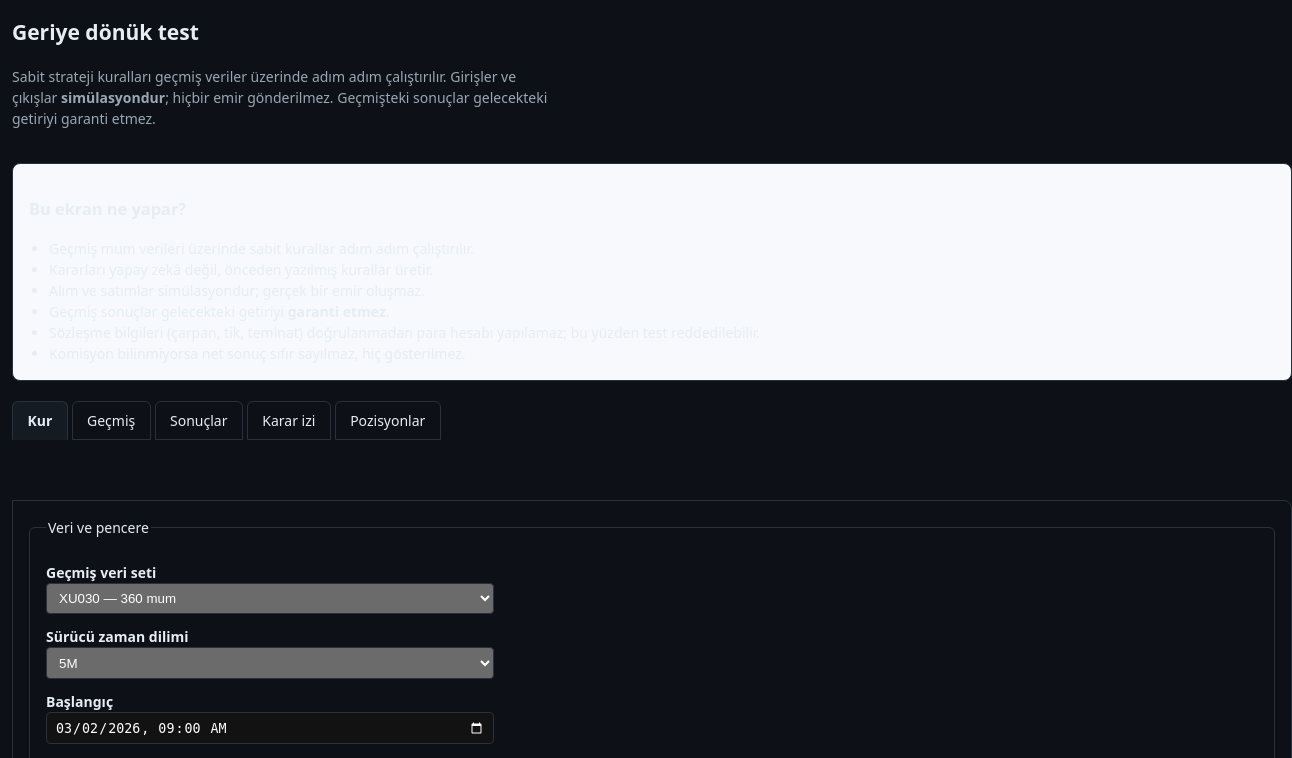
it: run status presentation › never presents a pending run as a result
Expected: the heading "Geriye dönük test" is shown, [12, 18, 199, 46]
Click the tab "Geçmiş". click: click(111, 420)
box: [72, 401, 151, 440]
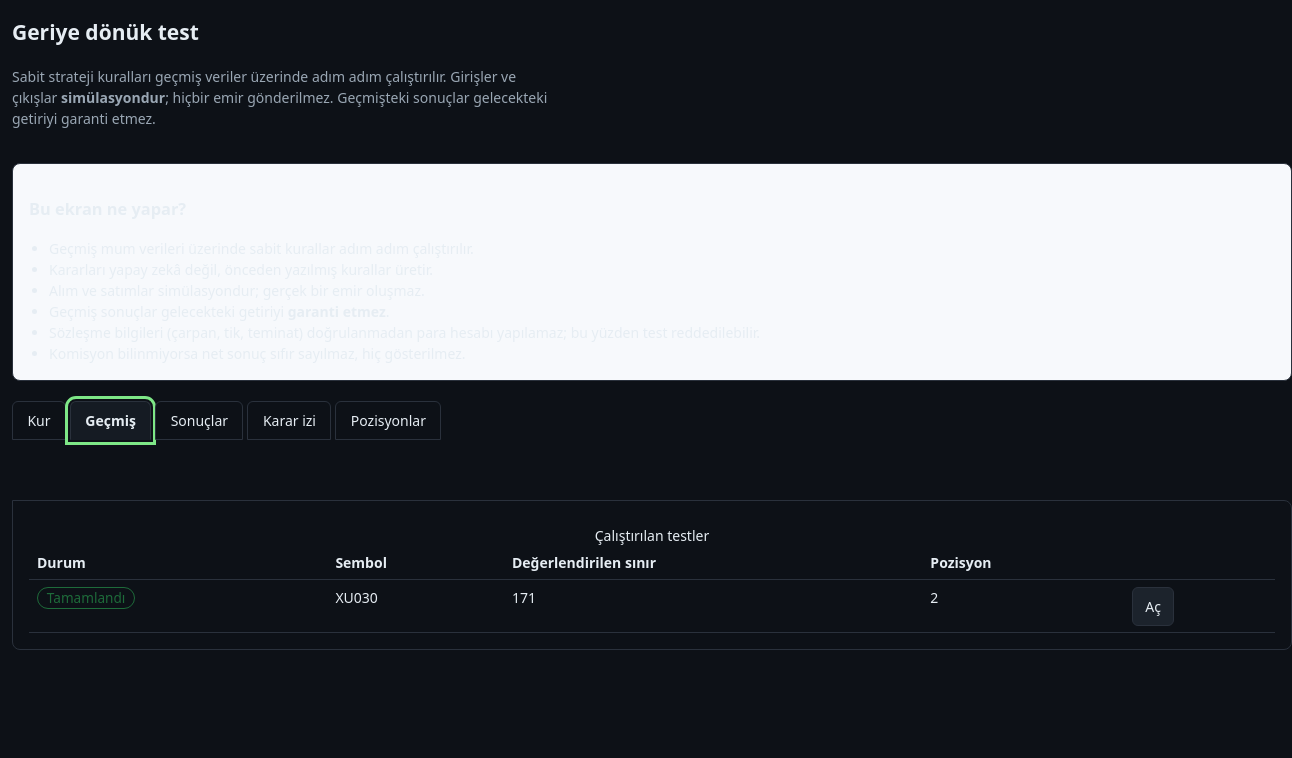
Click the button "Aç". click: click(1153, 606)
box: [1132, 587, 1174, 626]
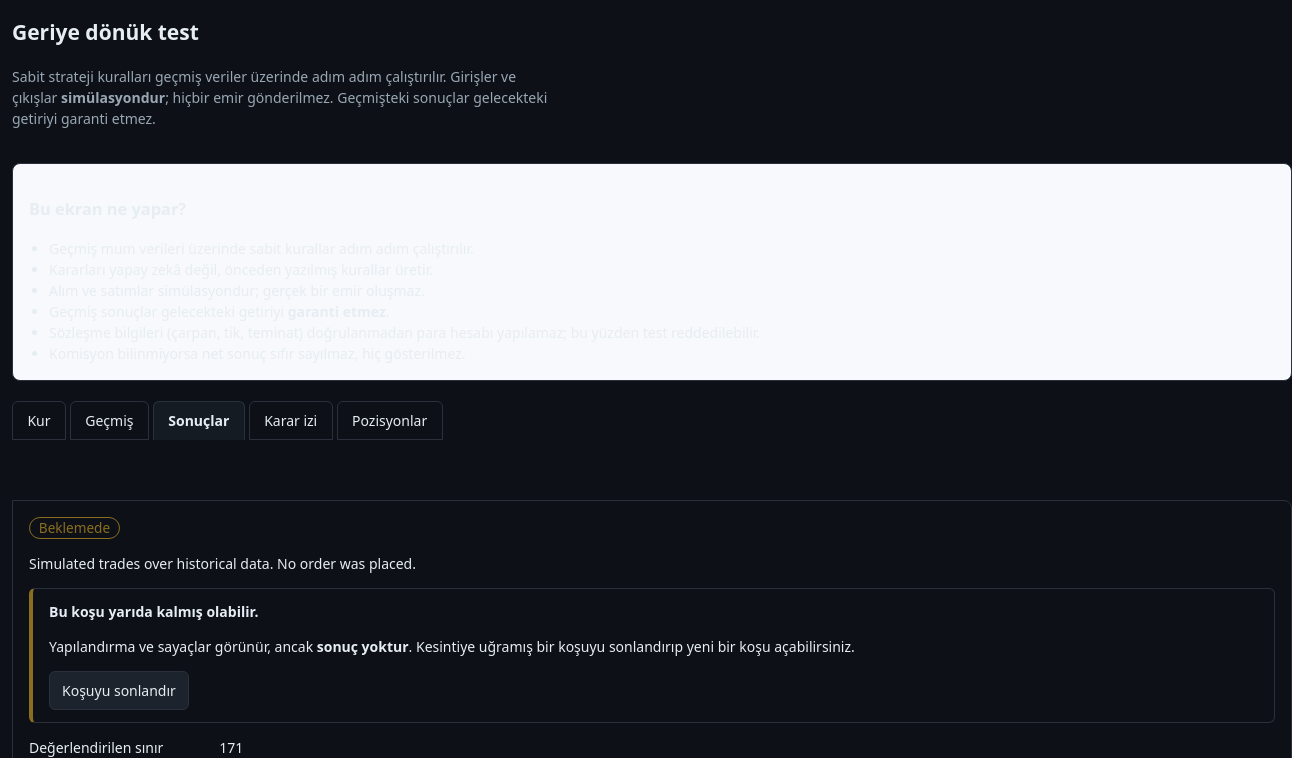
Expected: the text "Bu koşu yarıda kalmış olabilir." is shown, [49, 602, 258, 621]
Expected: the button "Koşuyu sonlandır" is shown, [49, 671, 189, 710]
